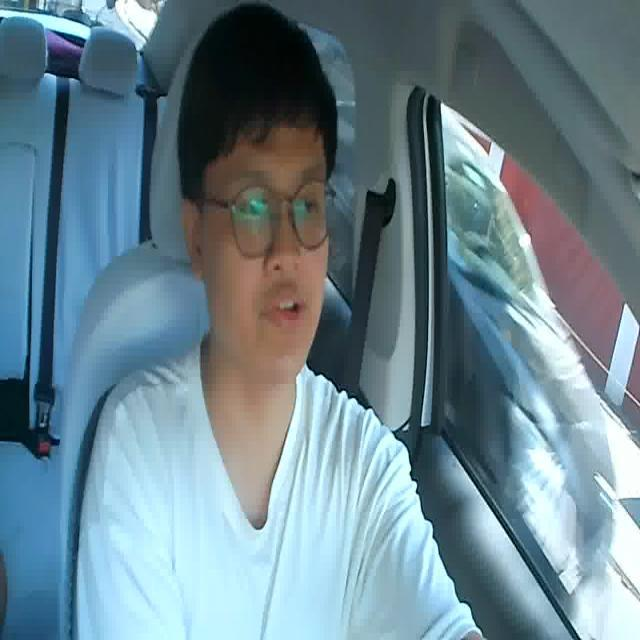Attentive: (174, 0, 339, 385)
Eye-Open: (237, 188, 271, 229), (294, 191, 318, 222)
Normal: (265, 284, 310, 334)
